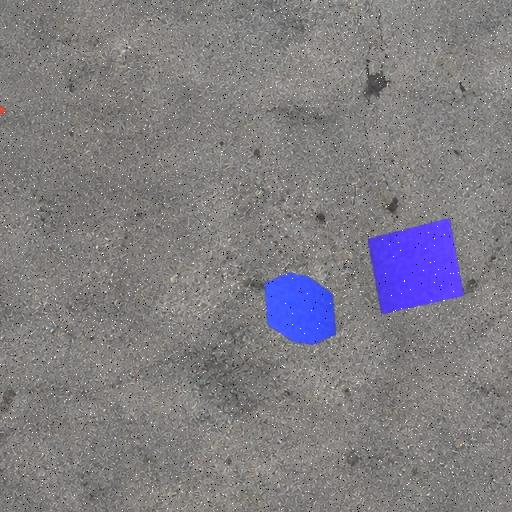BLUE_SQUARE: (367, 218, 465, 314)
